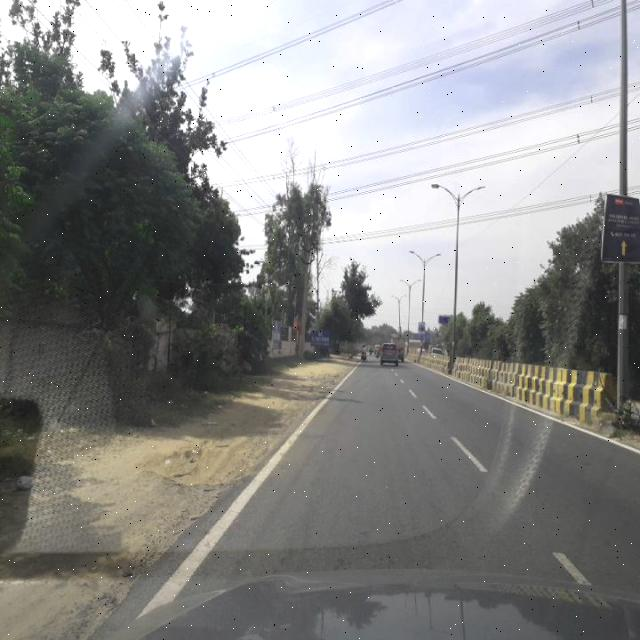D40: (144, 442, 264, 495)
